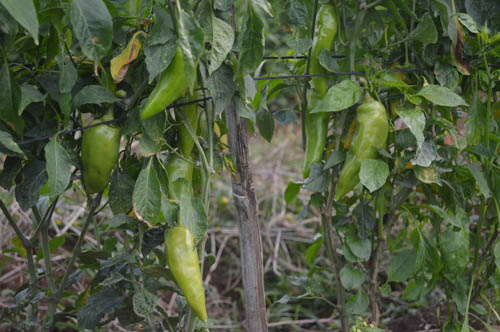ChiliPepper: (339, 102, 388, 197), (162, 230, 209, 319), (129, 54, 185, 123), (81, 121, 126, 190), (298, 97, 330, 177), (310, 7, 336, 96), (179, 90, 203, 159), (161, 155, 194, 204)
